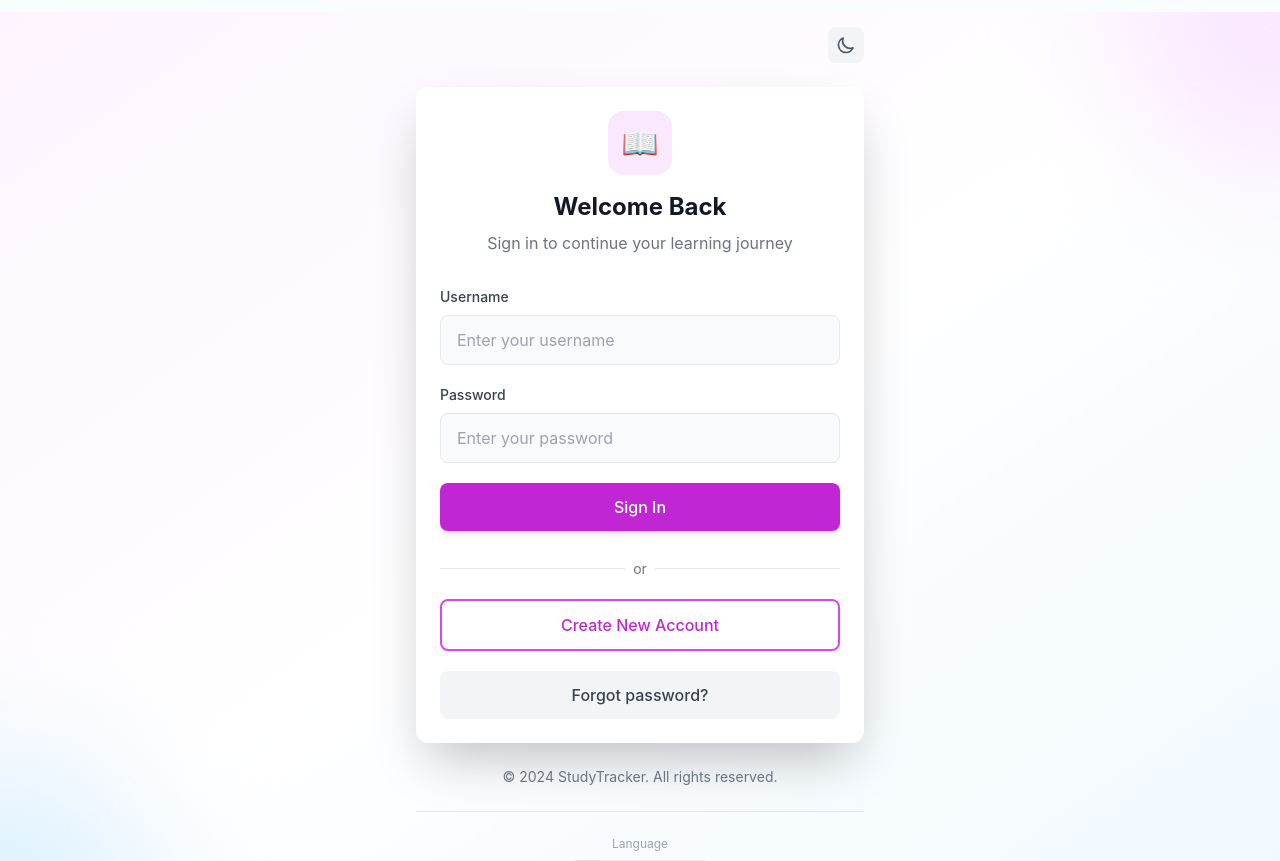
Scenario: Login page › shows error message when authentication fails
This screenshot has width=1280, height=861.
In the field with placeholder "Enter your username": [640, 340] box left=440, top=314, right=840, bottom=364, type "wronguser"
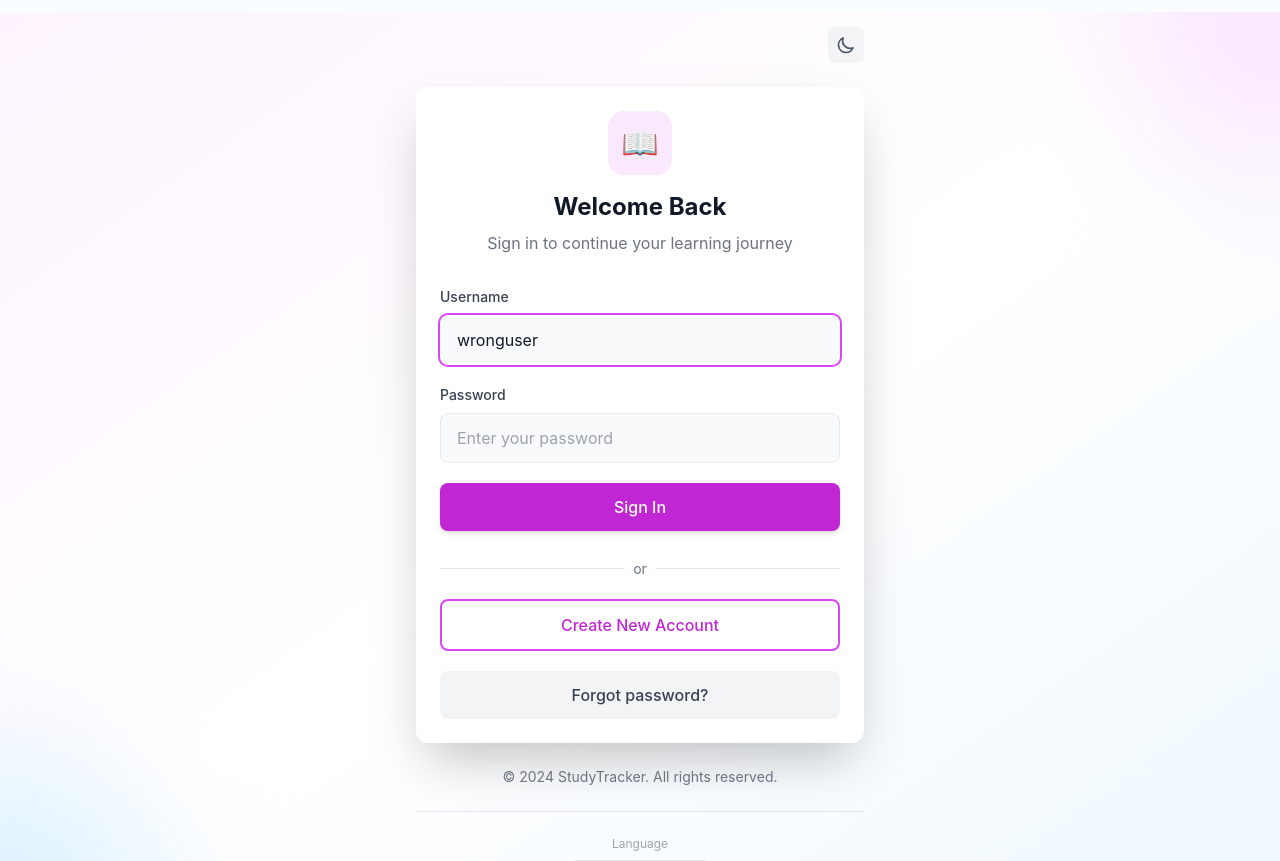
In the password field with placeholder "Enter your password": [640, 438] box left=440, top=412, right=840, bottom=462, type "wrongpass"
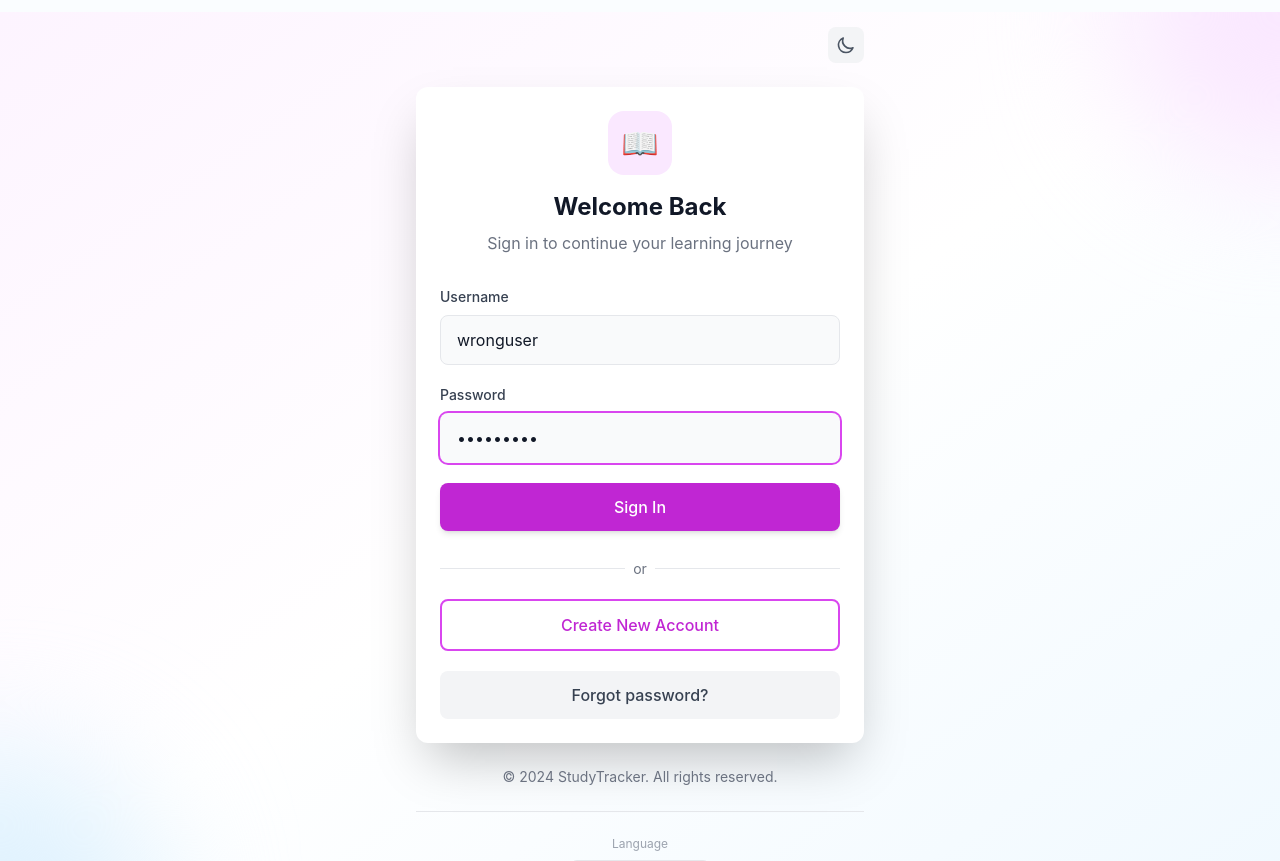
Click the button "Sign In": [640, 506] box left=440, top=482, right=840, bottom=530
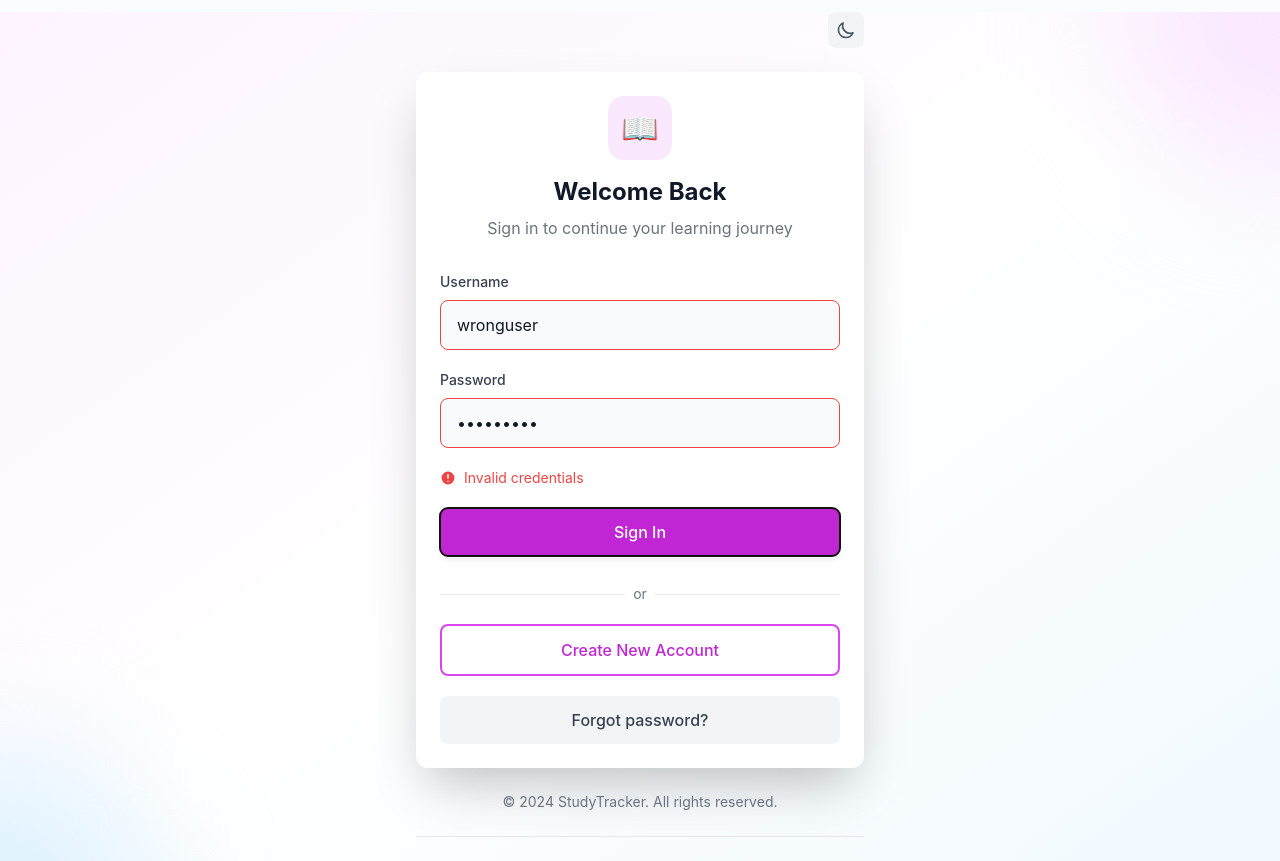
Now the text "Invalid credentials" is shown, box left=440, top=469, right=584, bottom=486
